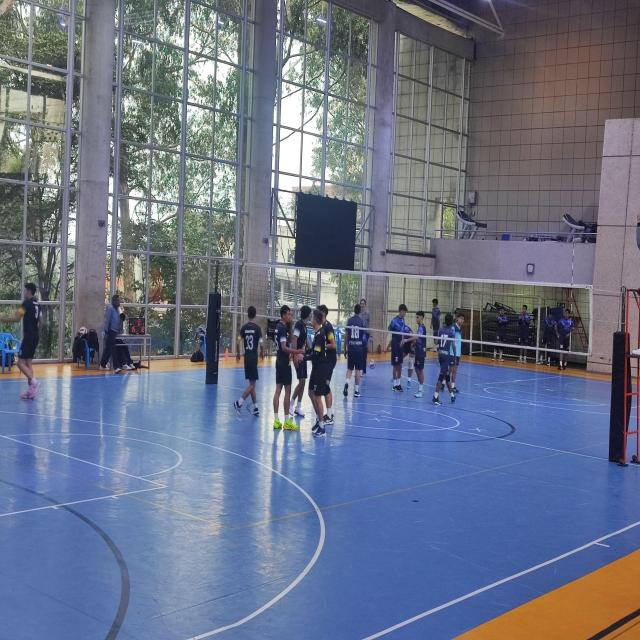volleyball: (368, 359, 376, 369), (79, 326, 87, 336)
